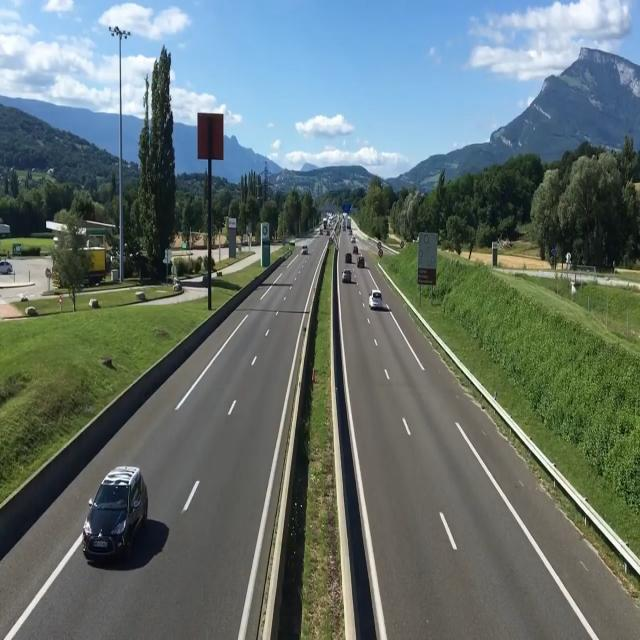car: (86, 464, 157, 569), (368, 287, 385, 314), (341, 263, 352, 284)
